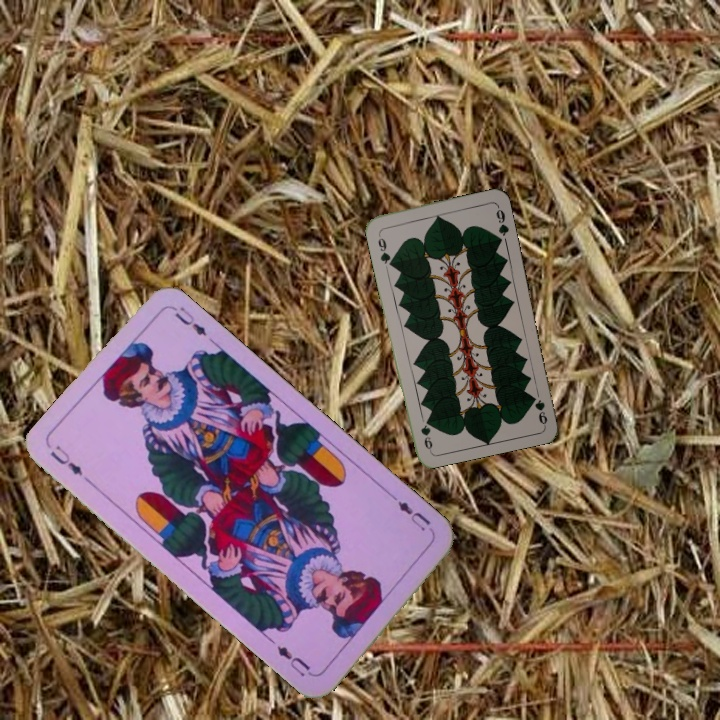EU: (393, 496, 434, 534), (46, 440, 86, 478)
G9: (527, 391, 550, 427), (374, 229, 394, 268)
